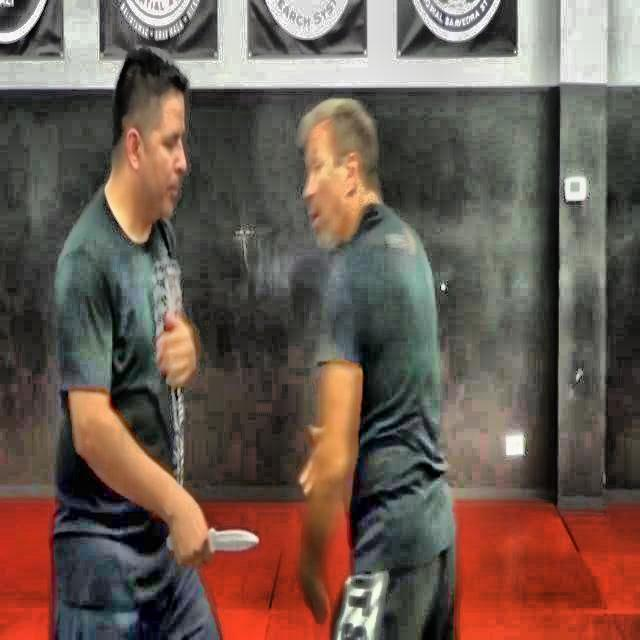knife: (168, 530, 260, 552)
